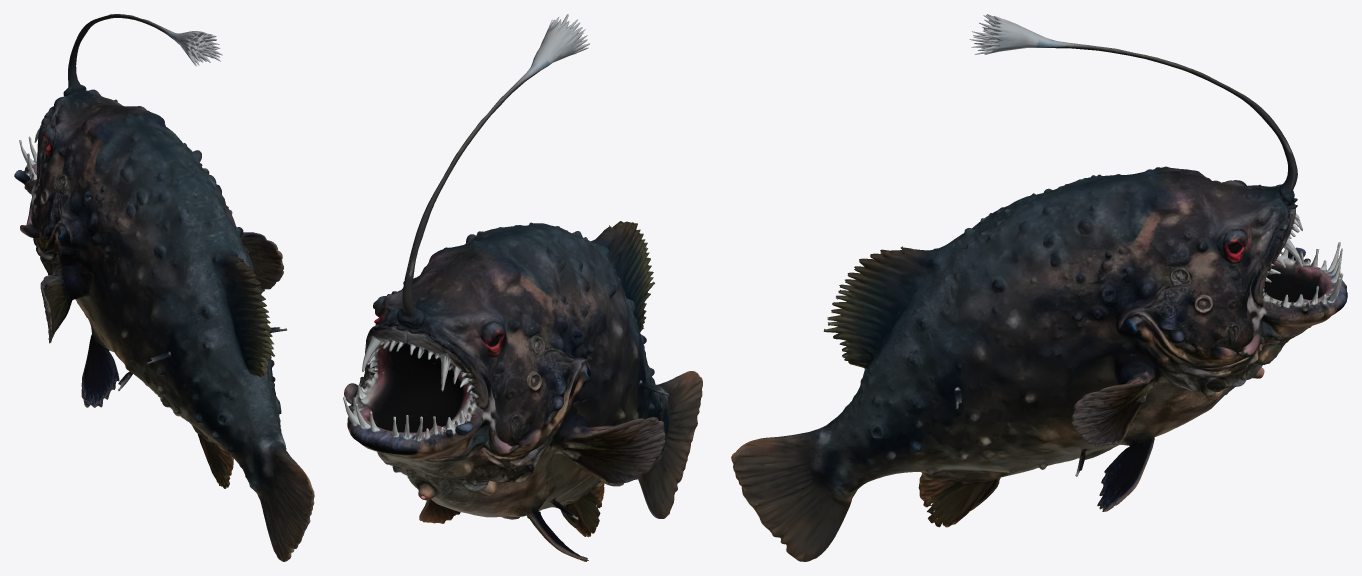
Rendered from angler.glb.
3 renders of one model, left to right at view 1: azimuth 30°, elevation 25°; view 2: azimuth 150°, elevation 25°; view 3: azimuth 270°, elevation 25°, orthographic. The views are drawn at different scales.
Visible parts, largest first — view 1: tripo_node_00011b52-ad27-419e-904c-a59bc6ad6183; view 2: tripo_node_00011b52-ad27-419e-904c-a59bc6ad6183; view 3: tripo_node_00011b52-ad27-419e-904c-a59bc6ad6183.
Part boxes in pixels (left/top/right/bottom): tripo_node_00011b52-ad27-419e-904c-a59bc6ad6183: left=14, top=14, right=314, bottom=561; tripo_node_00011b52-ad27-419e-904c-a59bc6ad6183: left=343, top=14, right=702, bottom=561; tripo_node_00011b52-ad27-419e-904c-a59bc6ad6183: left=731, top=14, right=1347, bottom=561.
Size of the model in its own units: 0.4978 by 0.957 by 0.9789.
Materials: 1 (1 with a texture image).
